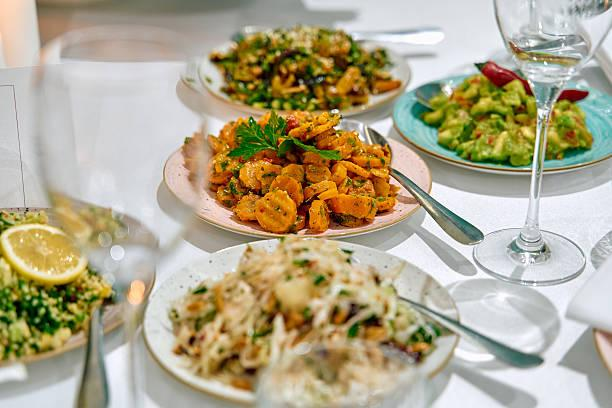Braised Crucian Carp: (144, 239, 456, 406), (167, 115, 431, 239), (0, 203, 155, 369), (393, 69, 611, 172), (194, 23, 413, 123)
